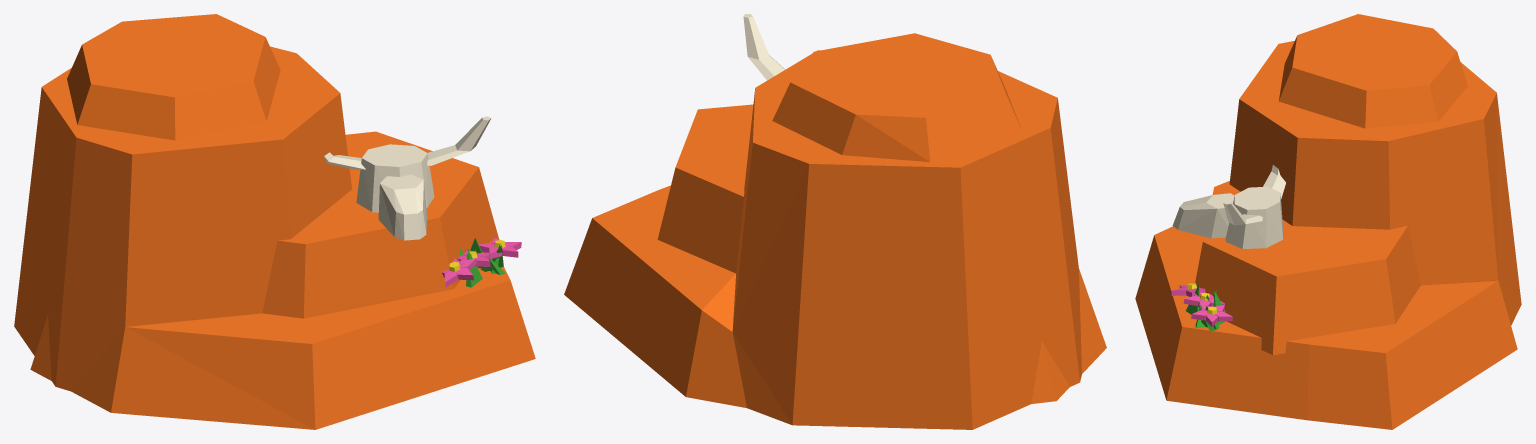
The model's file is CanyonBoulder_Split.fbx.
3 renders of one model, left to right at view 1: azimuth 30°, elevation 25°; view 2: azimuth 150°, elevation 25°; view 3: azimuth 270°, elevation 25°, orthographic. The views are drawn at different scales.
Parts seen in each view (by area): view 1: CanyonBoulder_PieceA, CanyonBoulder_PieceB, CanyonBoulder_Skull, CanyonBoulder_Flowers_Petals, CanyonBoulder_Leaves; view 2: CanyonBoulder_PieceA, CanyonBoulder_PieceB, CanyonBoulder_Skull; view 3: CanyonBoulder_PieceB, CanyonBoulder_PieceA, CanyonBoulder_Skull, CanyonBoulder_Flowers_Petals, CanyonBoulder_Leaves.
Boxes of the visible parts, <box> form: CanyonBoulder_PieceA: <box>14,15,365,429</box>; CanyonBoulder_PieceB: <box>199,14,535,413</box>; CanyonBoulder_Skull: <box>324,116,491,240</box>; CanyonBoulder_Flowers_Petals: <box>442,237,521,286</box>; CanyonBoulder_Leaves: <box>459,238,505,287</box>; CanyonBoulder_PieceA: <box>755,33,1106,429</box>; CanyonBoulder_PieceB: <box>564,42,864,411</box>; CanyonBoulder_Skull: <box>743,14,785,80</box>; CanyonBoulder_PieceB: <box>1142,79,1517,429</box>; CanyonBoulder_PieceA: <box>1135,14,1521,321</box>; CanyonBoulder_Skull: <box>1172,165,1285,248</box>; CanyonBoulder_Flowers_Petals: <box>1171,285,1232,326</box>; CanyonBoulder_Leaves: <box>1186,284,1225,331</box>.
Size of the model in its own units: 11.96 by 6.9 by 9.94.
